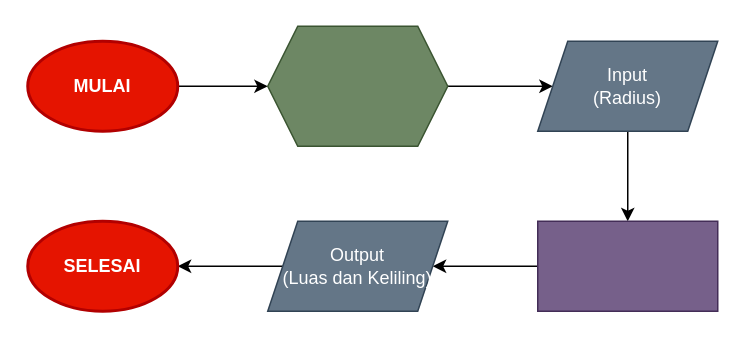
Image size: 744x339. Some labels were removed from this diagram. The centre of each missing label's shape, as x and y in pixels:
Luas = Phi * Radius * Radius Keliling = Phi * 2 * Radius: pixel 627 265
Phi = 3.14 Radius Luas Keliling: pixel 357 85
